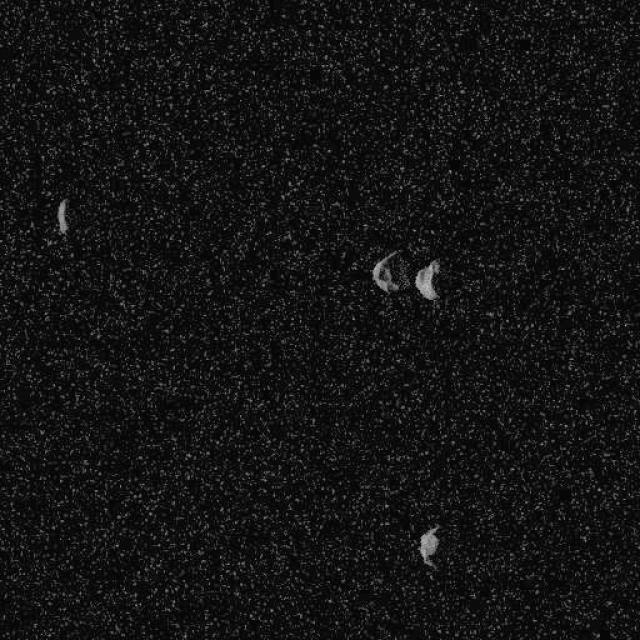D2: (370, 248, 409, 294), (414, 256, 441, 302), (418, 524, 442, 568), (55, 197, 69, 235)
